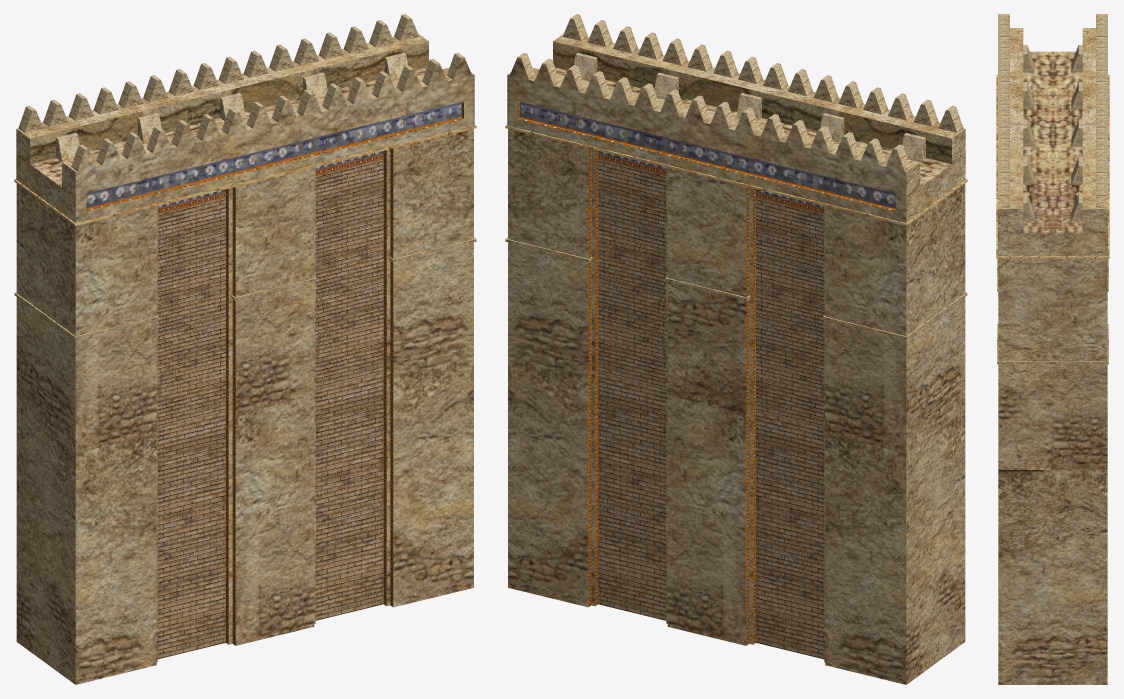
The model's file is pers_wall_medium.glb.
The picture shows the model from 3 angles, left to right: view 1: azimuth 30°, elevation 25°; view 2: azimuth 150°, elevation 25°; view 3: azimuth 270°, elevation 25°; orthographic projection. The views are drawn at different scales.
Bounding box in the file's own units: 24.26 × 30.75 × 6.37.
Materials: 1 (1 with a texture image).
